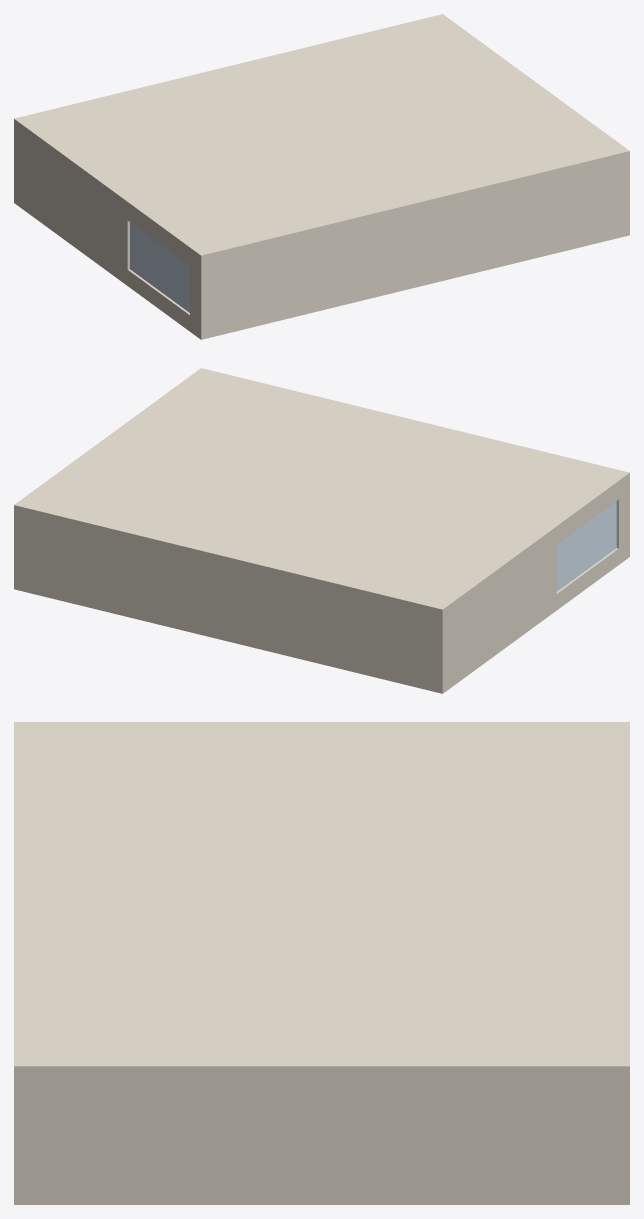
The model's file is ksv-studio-blockout.glb.
3 views of the same model, one above another, from view 1: azimuth 30°, elevation 25°; view 2: azimuth 150°, elevation 25°; view 3: azimuth 270°, elevation 25° (orthographic). The views are drawn at different scales.
Visible parts, largest first — view 1: ceiling, wall_south, wall_west_north, window_west_glass, wall_west_sill, wall_west_lintel, wall_west_south; view 2: ceiling, wall_north, wall_west_north, window_west_glass, wall_west_sill, wall_west_lintel, wall_west_south; view 3: ceiling, wall_east, wall_north, wall_south.
Boxes of the visible parts, x1,y1,x2,y2 form: ceiling: (14,14,629,255); wall_south: (198,151,629,339); wall_west_north: (17,121,129,285); window_west_glass: (130,222,189,312); wall_west_sill: (127,269,189,331); wall_west_lintel: (127,202,189,265); wall_west_south: (190,248,198,337); ceiling: (14,368,629,609); wall_north: (14,505,445,693); wall_west_north: (445,527,556,691); window_west_glass: (556,501,616,591); wall_west_sill: (556,548,618,610); wall_west_lintel: (556,481,618,544); wall_west_south: (616,475,626,564); ceiling: (14,722,629,1066); wall_east: (24,1067,619,1204); wall_north: (620,1067,629,1204); wall_south: (14,1067,23,1204).
Bounding box in the file's own units: 24.6 × 4.64 × 18.6.
